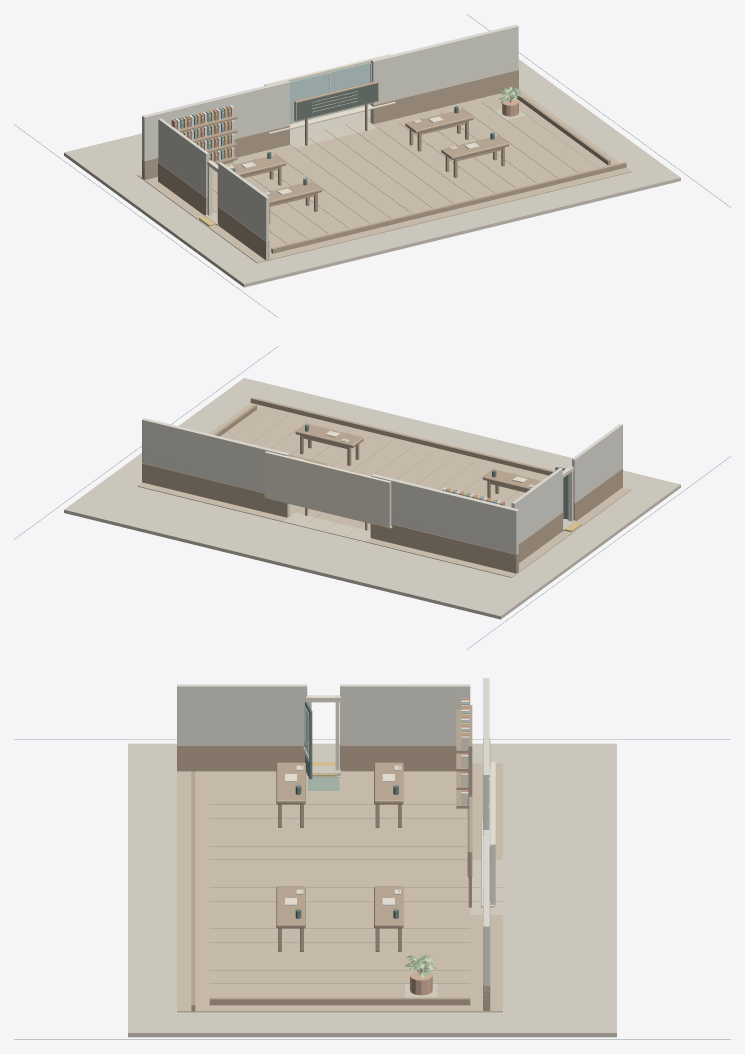
File: room.glb
3 renders of one model, top to bottom at view 1: azimuth 30°, elevation 25°; view 2: azimuth 150°, elevation 25°; view 3: azimuth 270°, elevation 25°, orthographic. The views are drawn at different scales.
Parts seen in each view (by area): view 1: Campaign_floor, Campaign_stone, Campaign_plaster, Campaign_wood, Campaign_cream, Campaign_glass, Campaign_ink, Campaign_paving, Campaign_metal, Campaign_amber, Campaign_red; view 2: Campaign_stone, Campaign_plaster, Campaign_floor, Campaign_wood, Campaign_cream, Campaign_paving, Campaign_metal; view 3: Campaign_floor, Campaign_stone, Campaign_plaster, Campaign_wood, Campaign_cream, Campaign_metal, Campaign_paving.
Part boxes in pixels (x1,y1,x2,y2): Campaign_floor: (137,89,631,263); Campaign_stone: (64,59,680,287); Campaign_plaster: (142,24,518,260); Campaign_wood: (142,69,626,260); Campaign_cream: (175,54,479,221); Campaign_glass: (290,62,370,123); Campaign_ink: (297,83,377,120); Campaign_paving: (197,109,525,227); Campaign_metal: (14,14,730,317); Campaign_amber: (182,106,453,226); Campaign_red: (171,106,230,161); Campaign_stone: (64,378,680,619); Campaign_plaster: (142,418,622,554); Campaign_floor: (137,398,631,577); Campaign_wood: (142,397,622,573); Campaign_cream: (264,431,573,528); Campaign_paving: (283,512,583,542); Campaign_metal: (14,346,730,649); Campaign_floor: (177,763,502,1012); Campaign_stone: (128,743,616,1037); Campaign_plaster: (177,678,489,1007); Campaign_wood: (177,705,490,1011); Campaign_cream: (285,695,495,907); Campaign_metal: (14,701,730,1039); Campaign_paving: (307,763,502,997).
Size of what is drawn, in the model's own units: 17.41 by 2.45 by 17.6.
